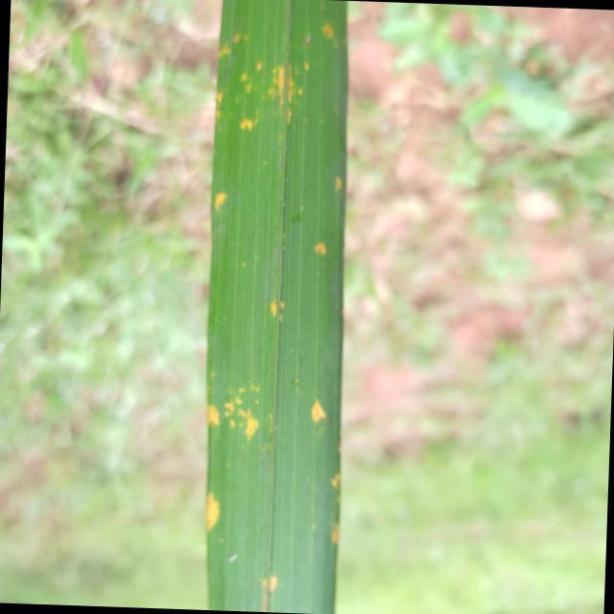Kalium: (206, 0, 342, 614)
